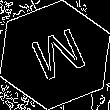M_SE: (21, 23, 89, 87)
